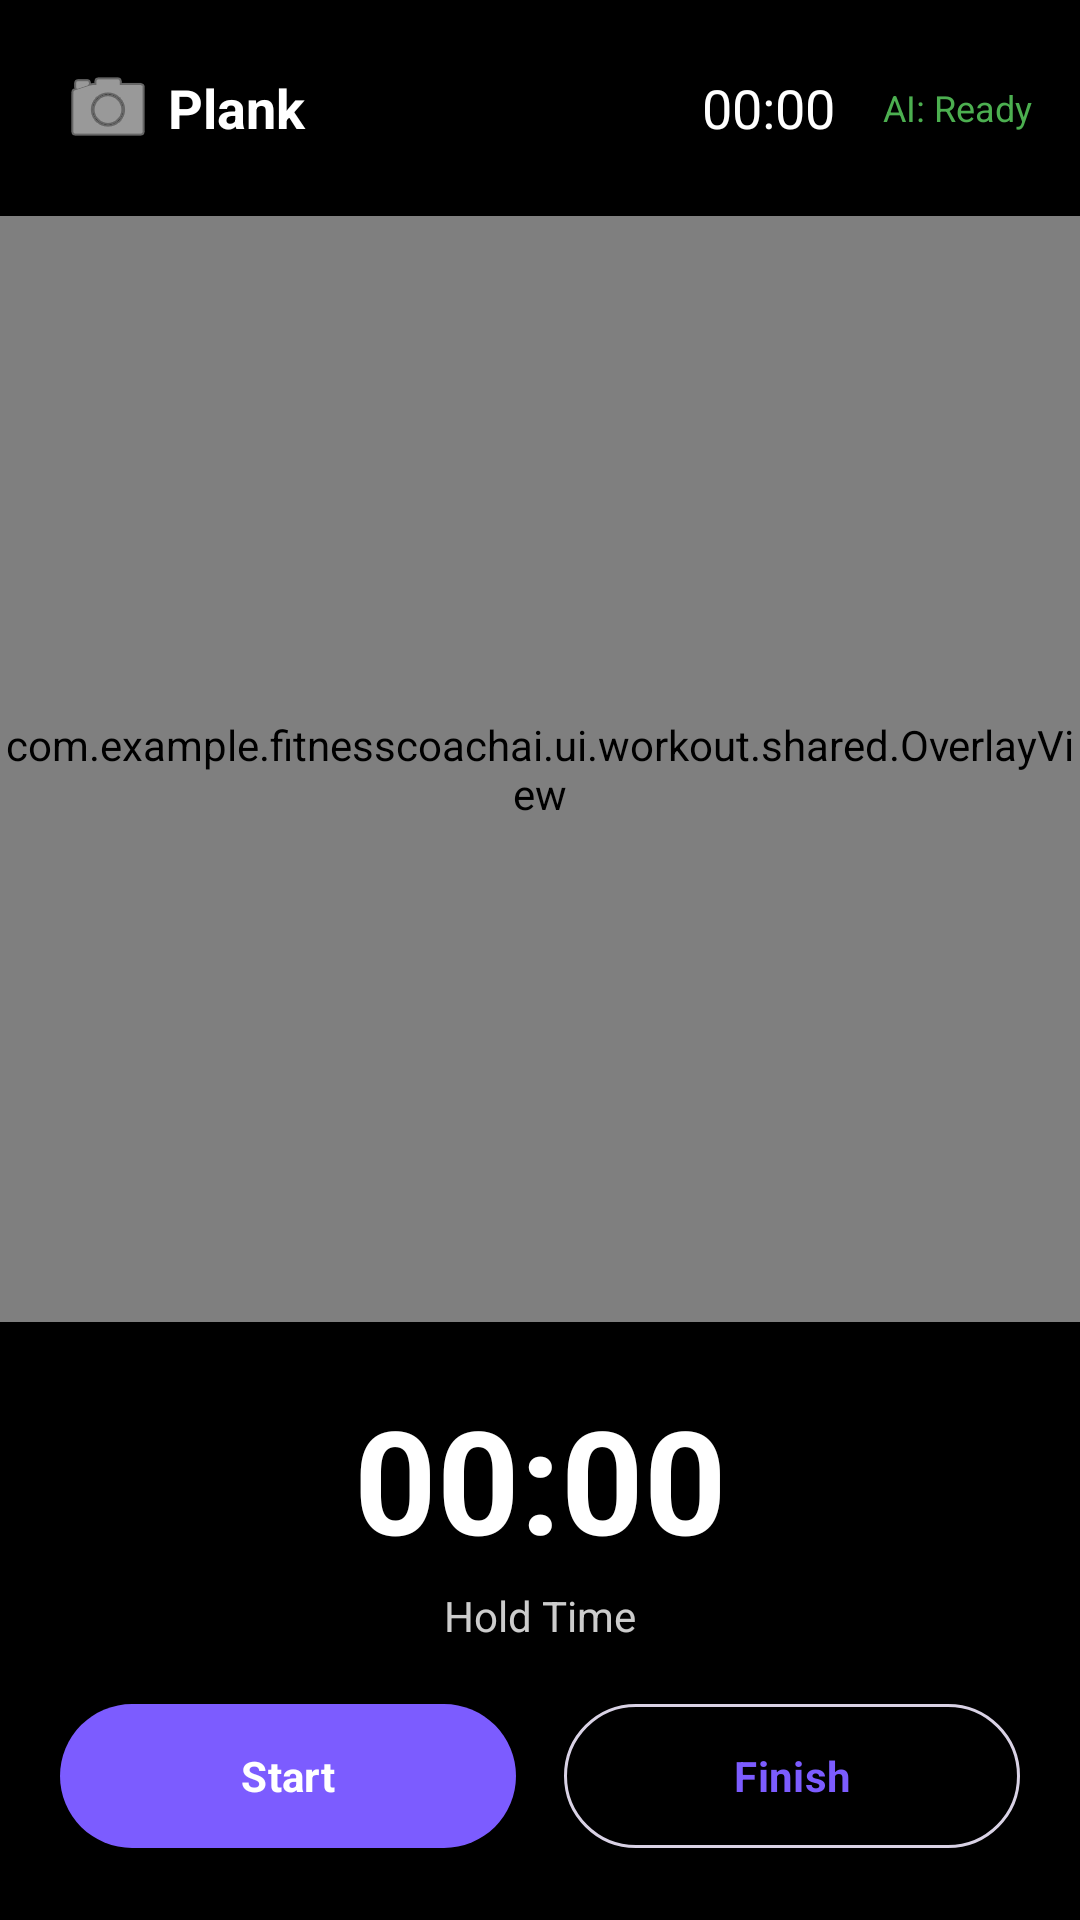

Where to tap for icons on this 1080w x 1920h app screen, as point (x, y):
Switch camera: point (108, 106)
